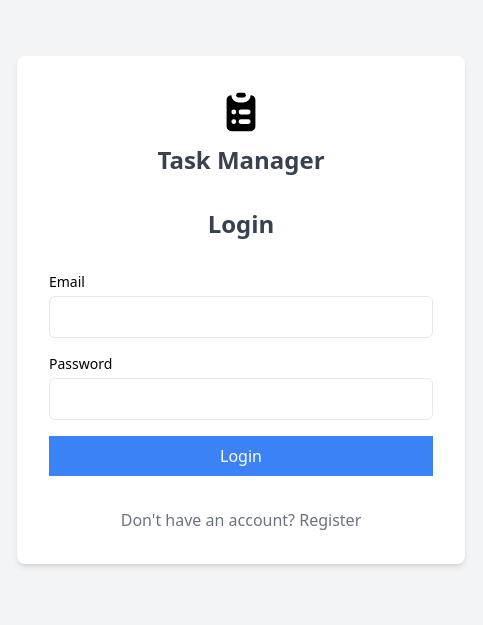
Test: Login Component › handles login errors correctly
The image size is (483, 625).
# Fill form with wrong credentials
Step 1. Type "wrong@example.com" into the field labelled "Email" → [241, 317], box [49, 296, 433, 338]
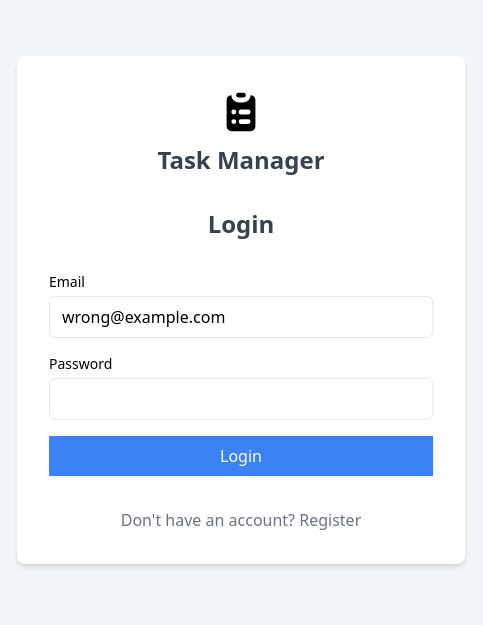
Step 2. Type "wrongpassword" into the password field labelled "Password" → [241, 399], box [49, 378, 433, 420]
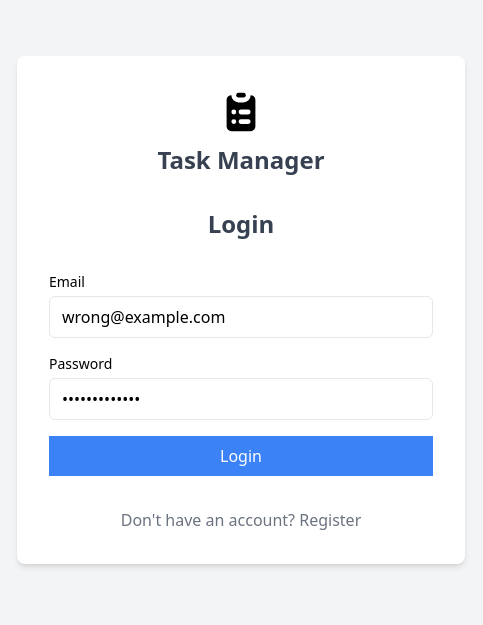
# Submit form
Step 3. Click the button "Login" → [241, 456], box [49, 436, 433, 476]
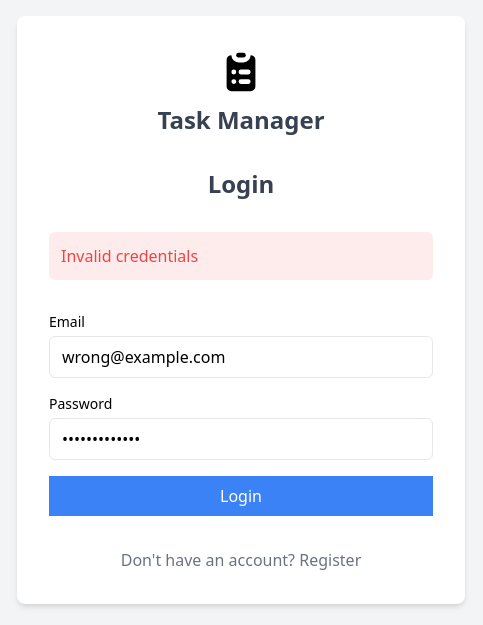
Now the text "Invalid credentials" is shown, box [49, 232, 433, 280]
